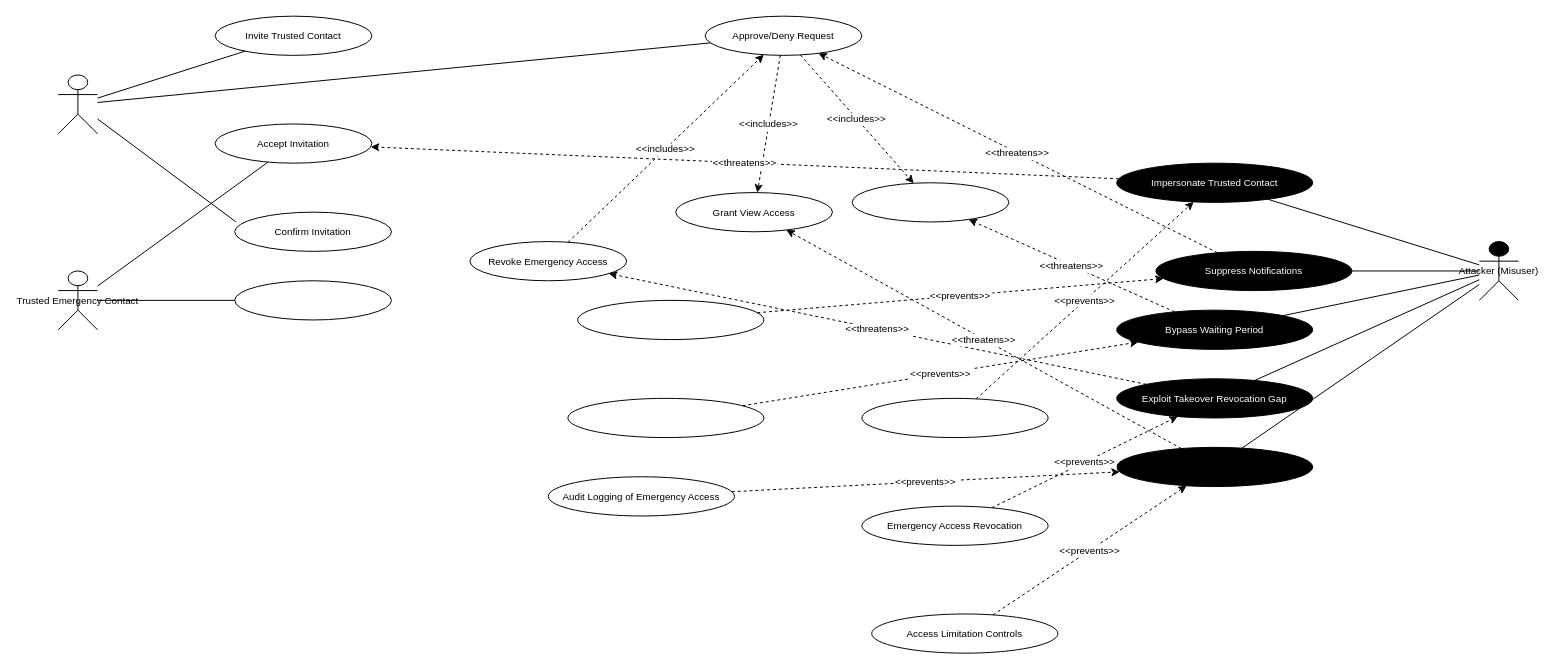
This 1554x669 diagram has some shape labels left out. The box of each missing label's shape, as (x1, y1, x2, y2) in pixels:
Bank Customer: (57, 74, 98, 134)
Grant Takeover Access: (851, 182, 1009, 222)
Identity Verification of Trusted Contact: (861, 397, 1048, 438)
Immutable Waiting Period Enforcement: (567, 397, 764, 438)
Insider Abuse by Admin: (1116, 446, 1313, 487)
Multi-Channel Notifications: (577, 299, 764, 340)
Request Emergency Access: (234, 280, 392, 320)
